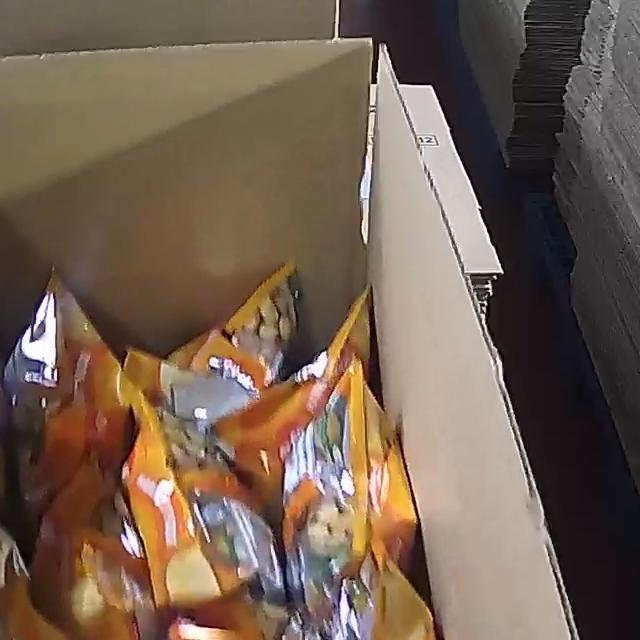cheese: (0, 215, 465, 640)
